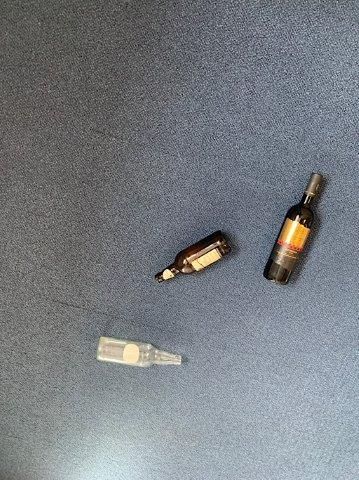botolkaca: (262, 173, 323, 284), (154, 231, 232, 283), (96, 337, 183, 367)
